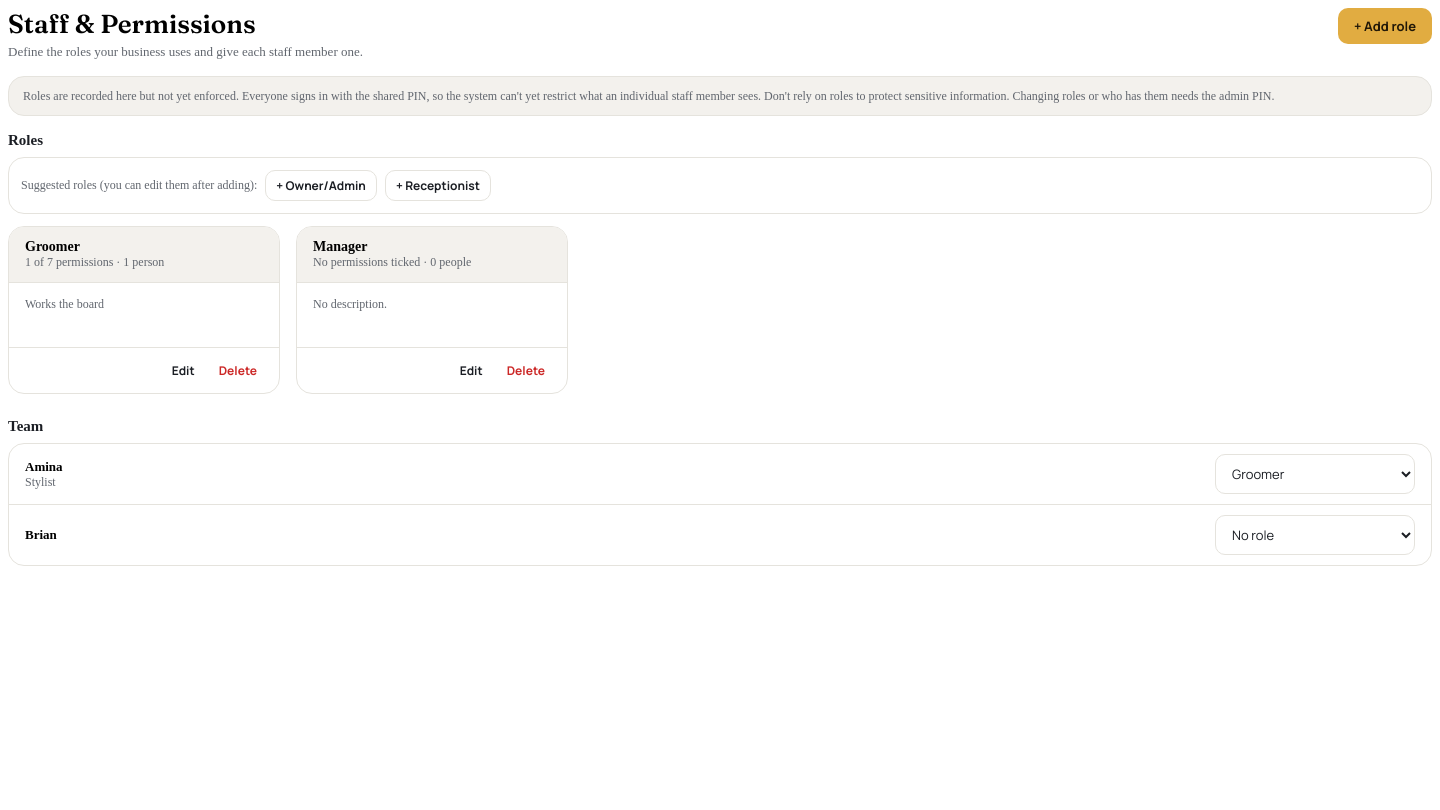
Test: StaffPage (roles and assignment) › a wrong admin PIN adds nothing and says so
The image size is (1440, 810).
Expected: the button with aria-label "Edit Groomer" is shown, x1=162 y1=356 x2=205 y2=385
Click the button with aria-label "Add suggested role Receptionist" at [438, 186], box x1=385 y1=170 x2=491 y2=201
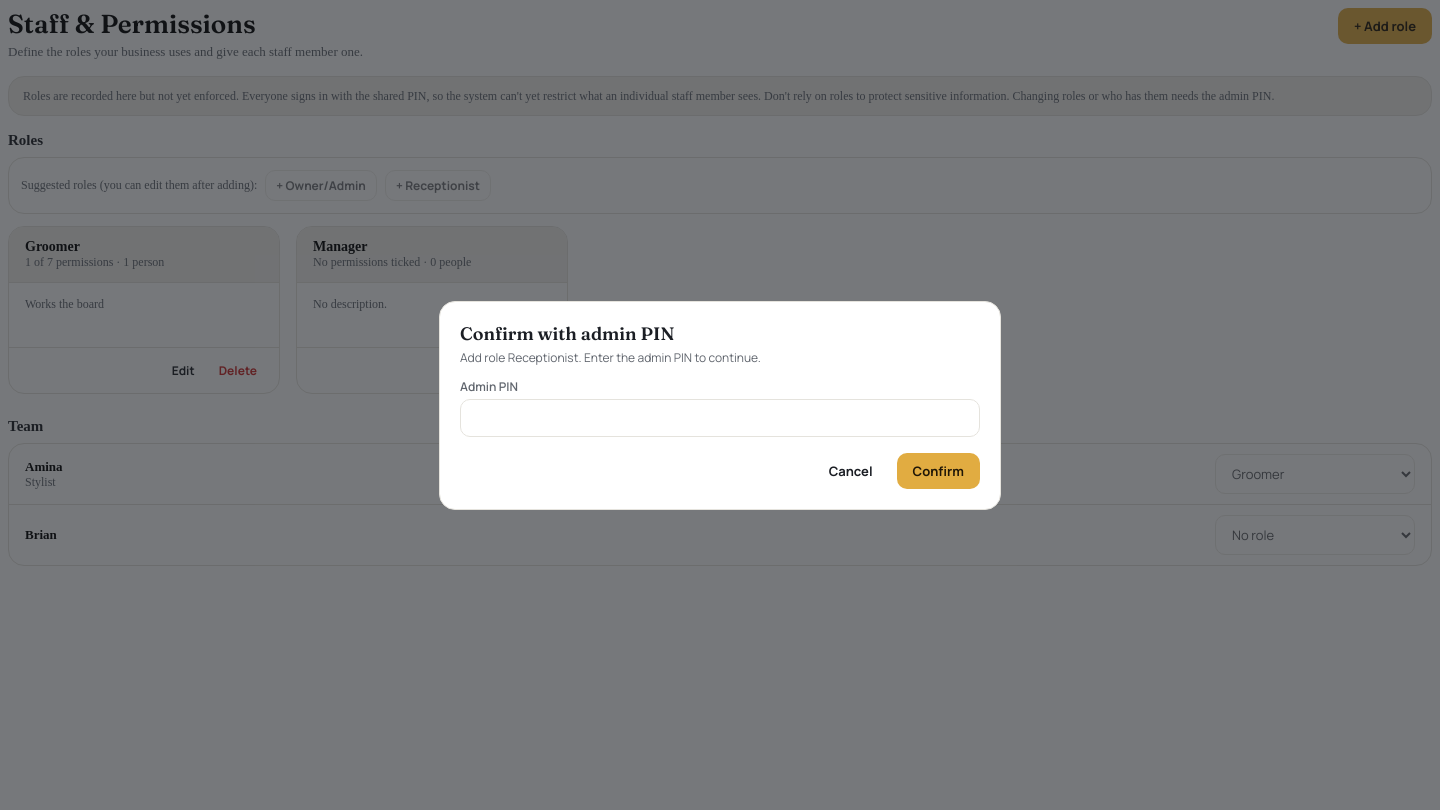
Type "0000" into the password field labelled "Admin PIN" at [720, 418], box x1=460 y1=398 x2=980 y2=436
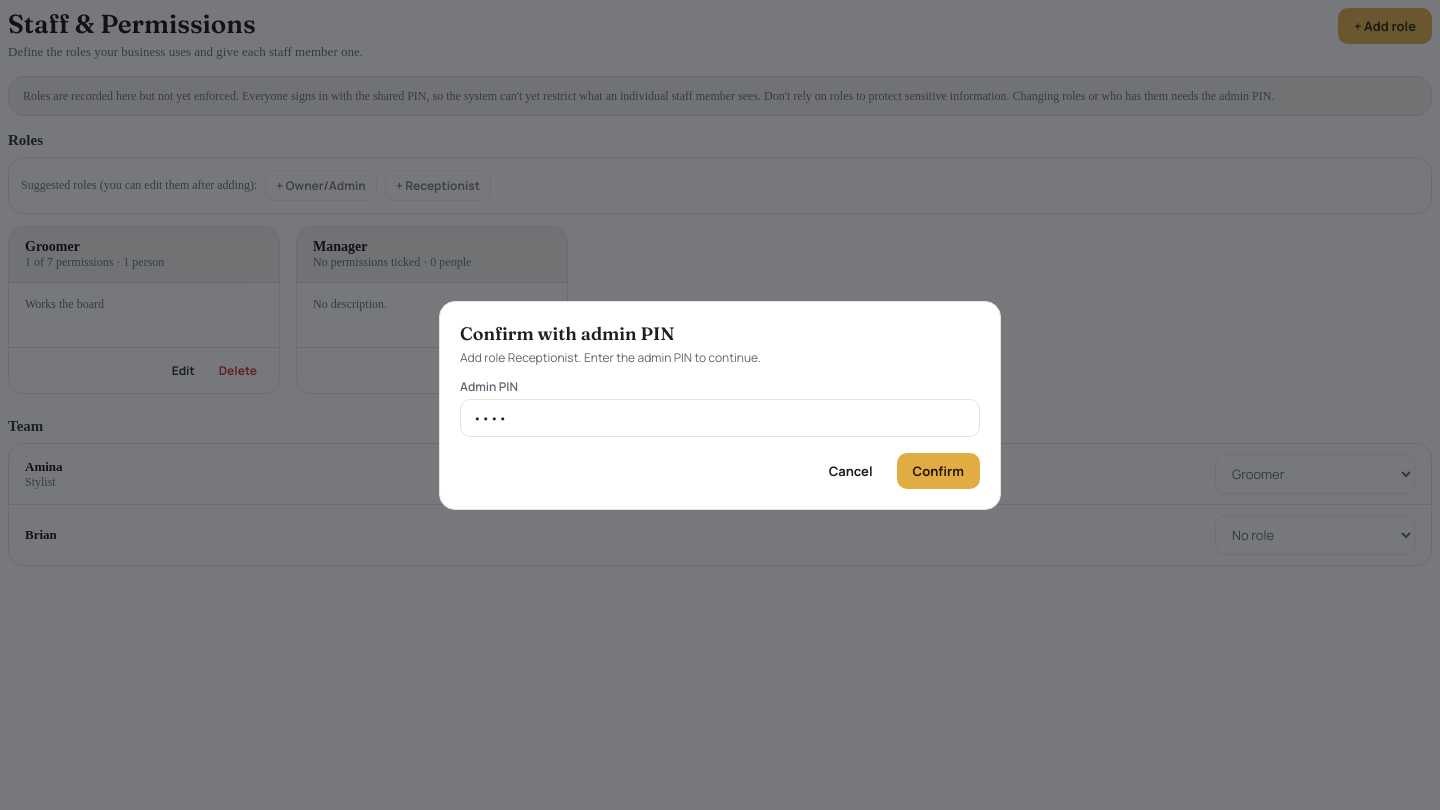
Click the button "Confirm" at [938, 470], box x1=897 y1=452 x2=980 y2=488
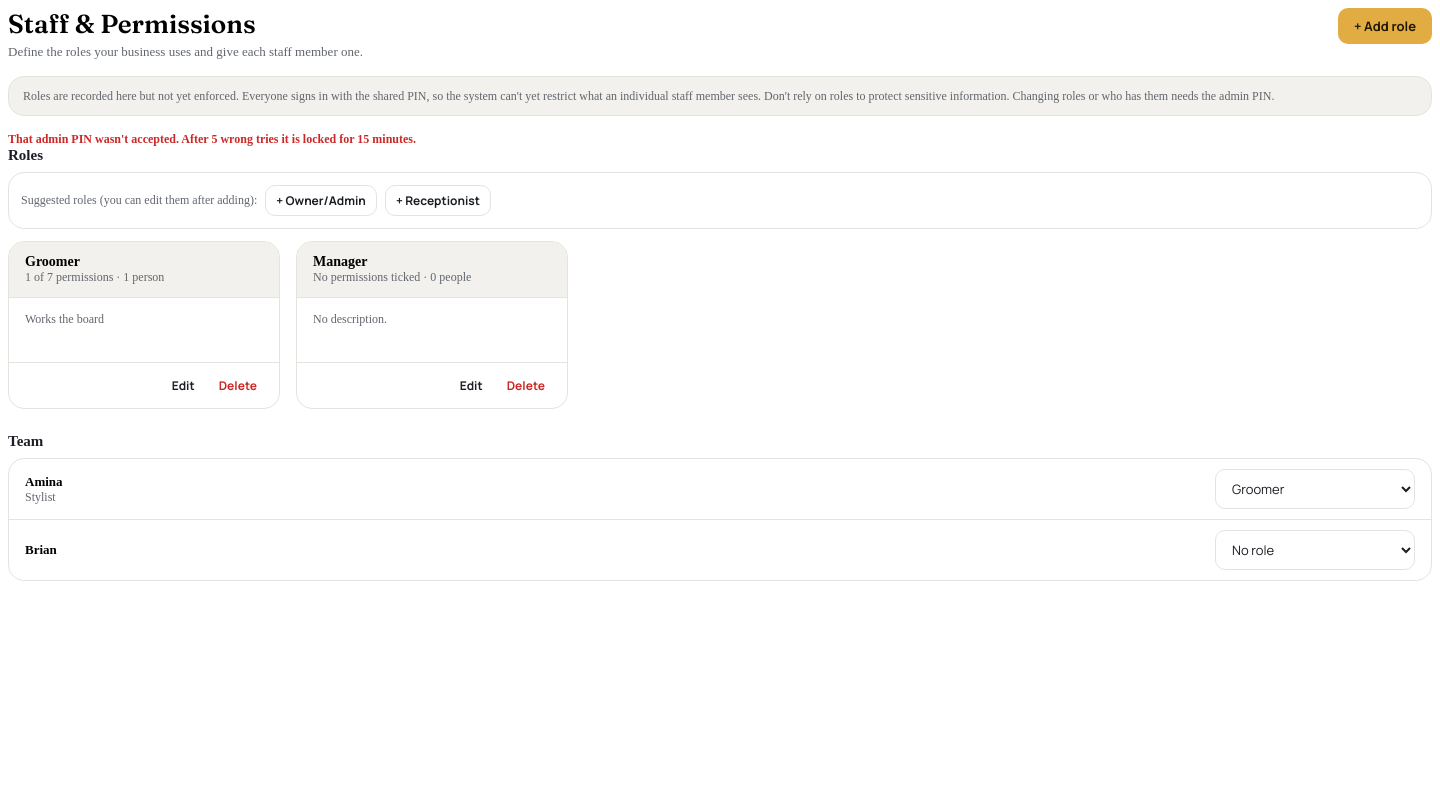
Now the text "admin PIN wasn't accepted" is shown, box x1=8 y1=132 x2=416 y2=146
